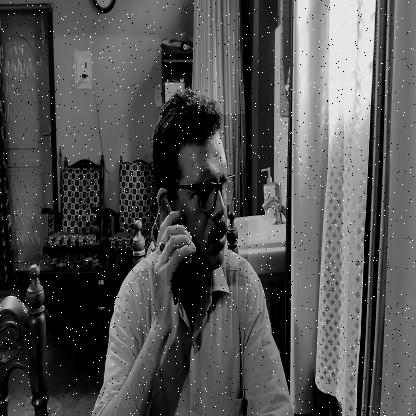Distracted: (167, 114, 248, 286)
